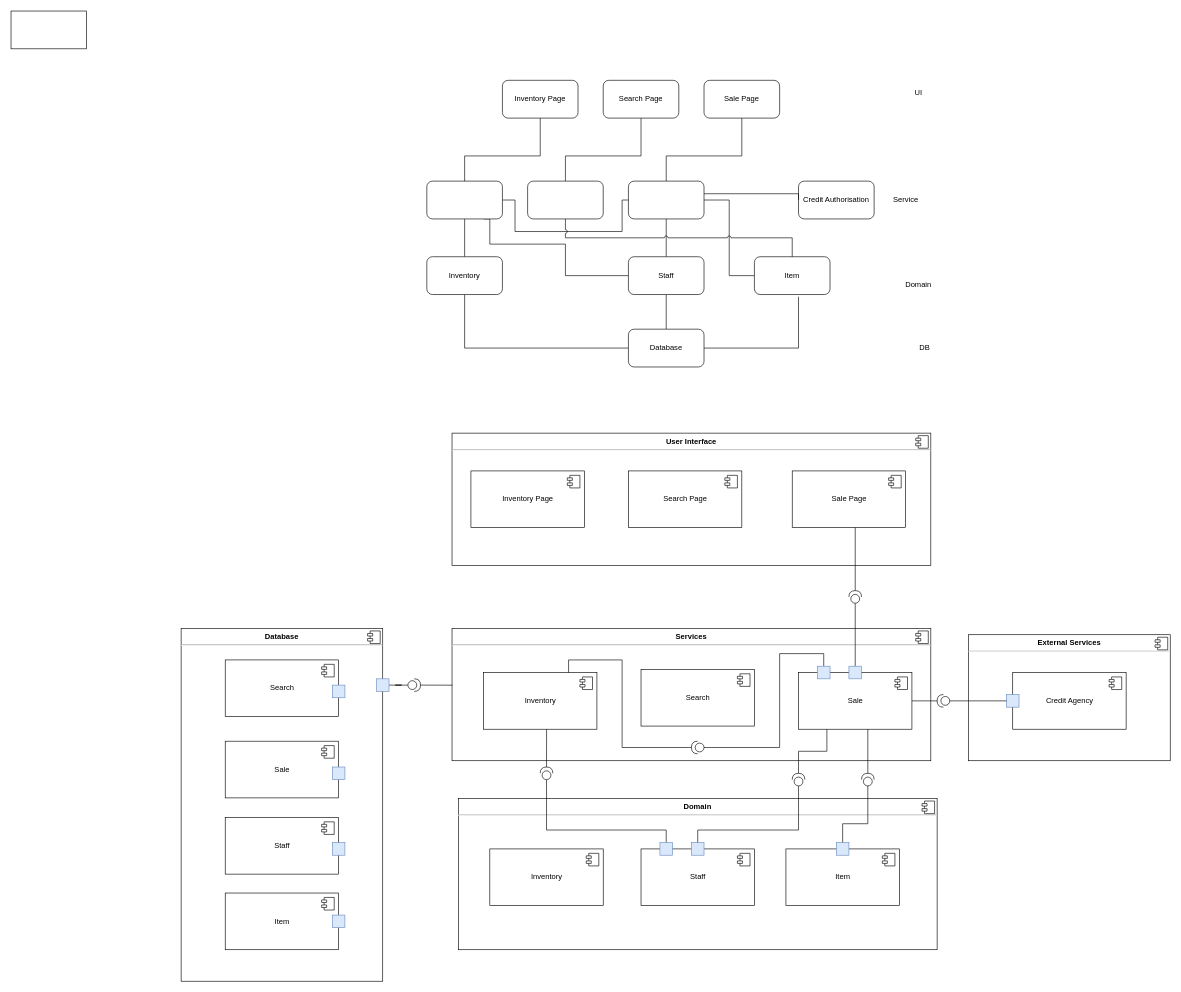
Some shapes in this 1181 by 992 pixel diagram are drawn without their labels. Here are the shapes that lost their labels. From the top down, the centre of each, then its label:
At (x=464, y=199): "Inventory Updater".
At (x=565, y=199): "Search Service".
At (x=666, y=199): "Sale Service".
